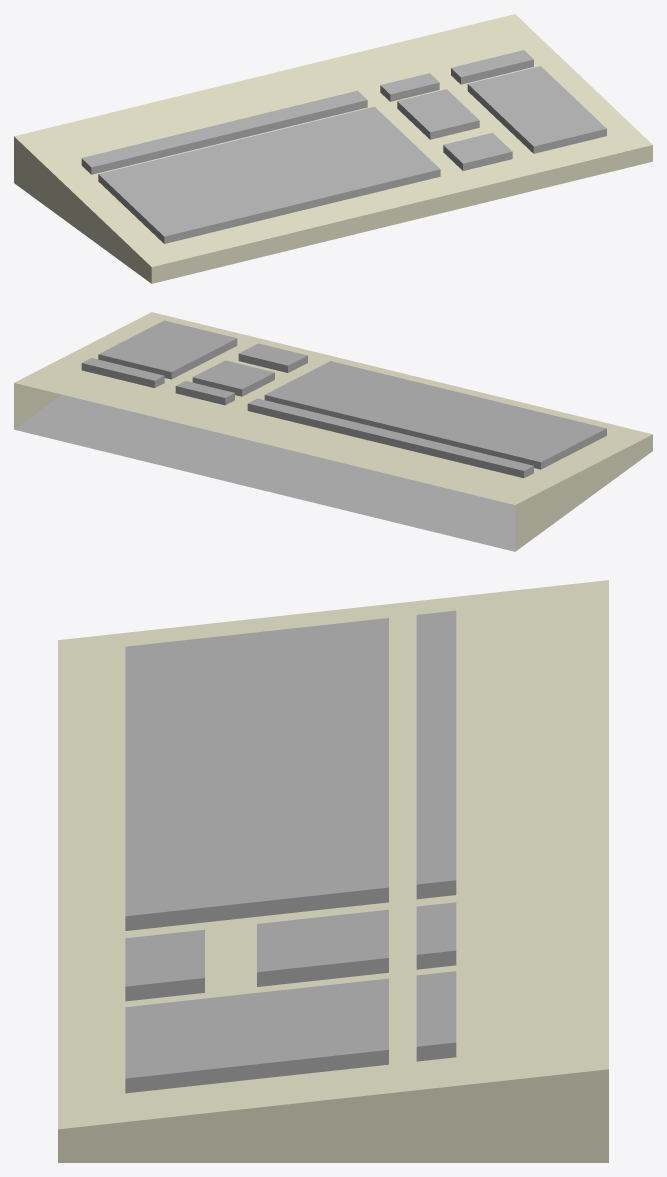
Rendered from keyboard.fbx.
3 views of the same model, one above another, from view 1: azimuth 30°, elevation 25°; view 2: azimuth 150°, elevation 25°; view 3: azimuth 270°, elevation 25° (orthographic). The views are drawn at different scales.
Parts seen in each view (by area): view 1: keyboard; view 2: keyboard; view 3: keyboard.
Part boxes in pixels (box(x1,y1,x2,y2)): keyboard: box(14, 14, 652, 283); keyboard: box(14, 312, 652, 551); keyboard: box(58, 580, 608, 1162).
Size of the model in its own units: 45.89 by 4.09 by 21.85.
